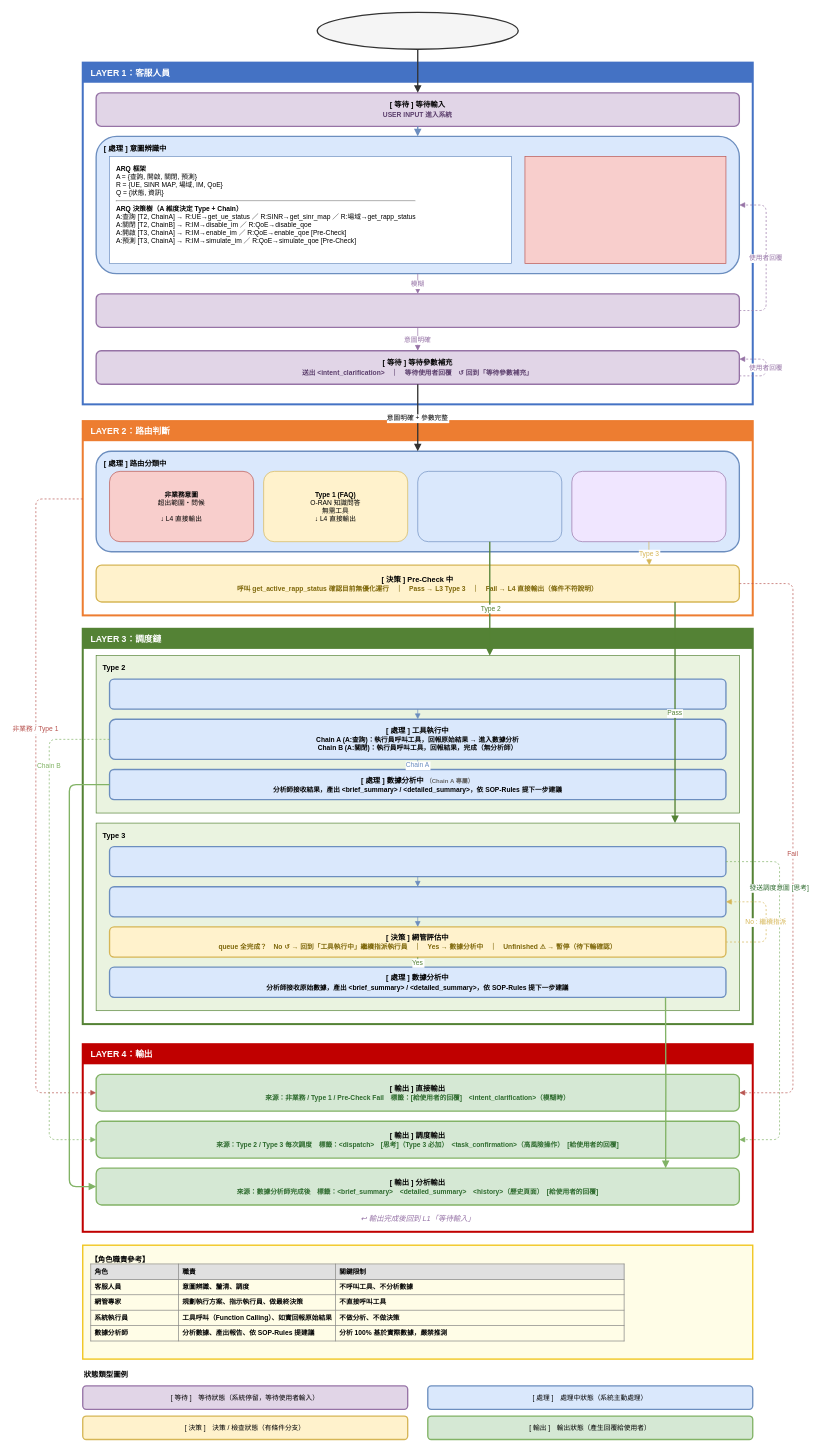
Image size: 821x1451. Some labels were removed from this diagram. The centre of each missing label's shape, as x and y in pixels:
"[ 等待 ] 等待意圖釐清 送出 <intent_clarification> ｜ 等待使用者回覆 ↺ 回到「意圖辨識中」" goes at pixel 417 310.
"[ 處理 ] 工具執行中 執行員執行當前步驟，回報原始結果給網管專家" goes at pixel 417 901.
"[ 處理 ] 網管規劃中 接收調度，依 SOP 制定多步驟執行方案" goes at pixel 417 861.
"[ 處理 ] 網管規劃中 接收調度，制定一輪執行方案，依 SOP 決定工具呼叫順序" goes at pixel 417 694.
"Type 2 A:查詢 / A:關閉 無 Pre-Check ↓ L3 調度鏈" goes at pixel 489 506.
"Type 3 A:開啟 / A:預測 需 Pre-Check [!] ↓ Pre-Check 中" goes at pixel 648 506.
"USER INPUT" goes at pixel 417 30.
"非業務偵測（平行） • 超出服務範圍 • 問候 / 閒聊 → 直接到 L4 輸出" goes at pixel 625 210.
